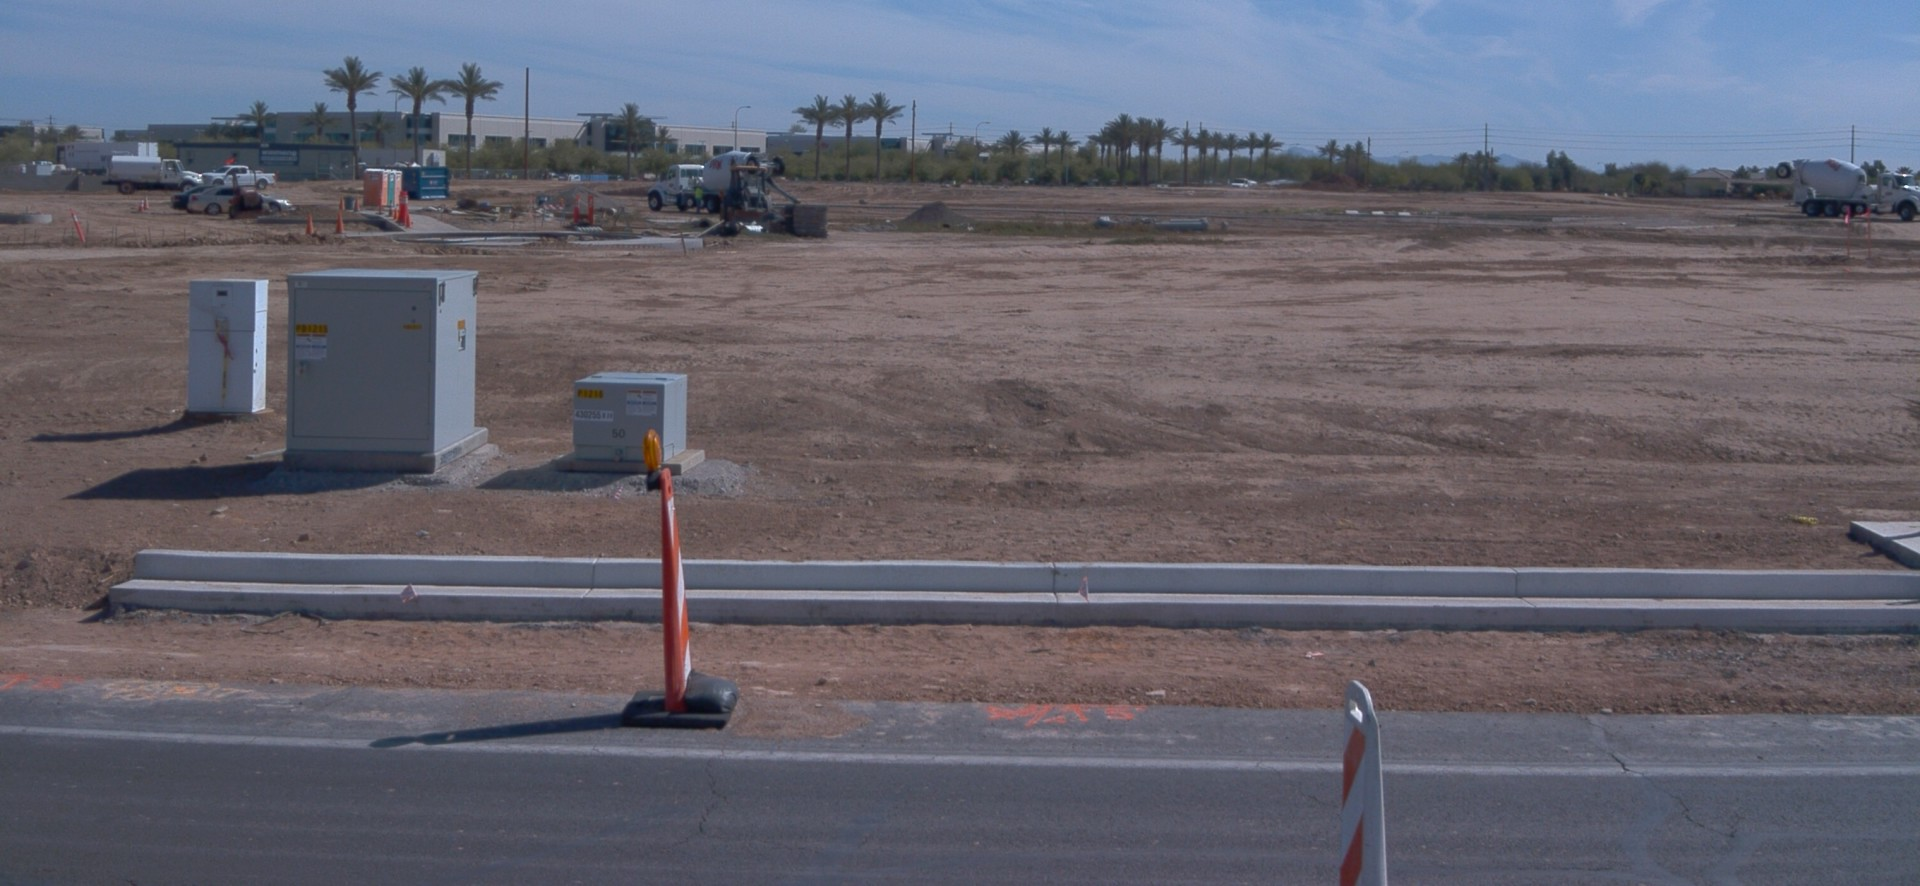TYPE_PEDESTRIAN: (692, 183, 704, 215)
TYPE_VEHICLE: (1772, 154, 1920, 225), (645, 151, 802, 213), (714, 160, 783, 234), (102, 153, 205, 193), (63, 135, 162, 175), (183, 181, 292, 213), (226, 167, 272, 219), (203, 162, 279, 193), (3, 146, 66, 178), (168, 186, 207, 210), (1229, 177, 1257, 189)
